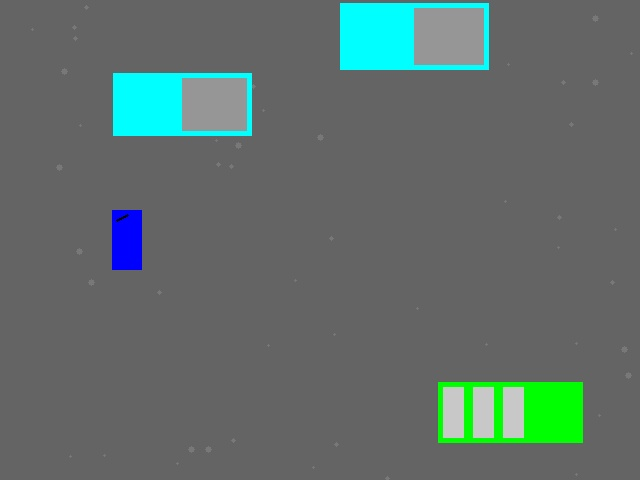bus: (438, 382, 582, 442)
motorcycle: (112, 210, 141, 269)
truck: (340, 3, 488, 69), (113, 73, 251, 135)
